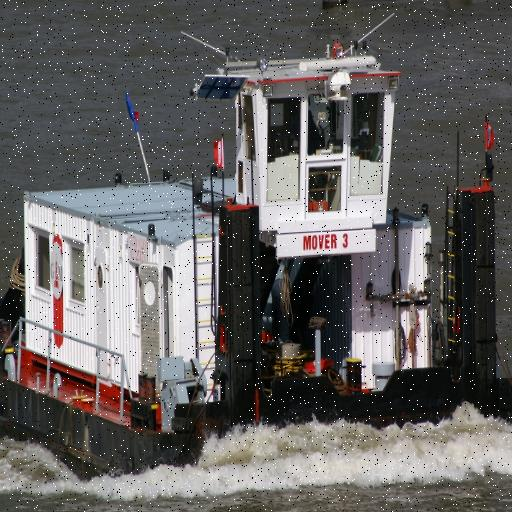tugboat: (1, 36, 512, 498)
